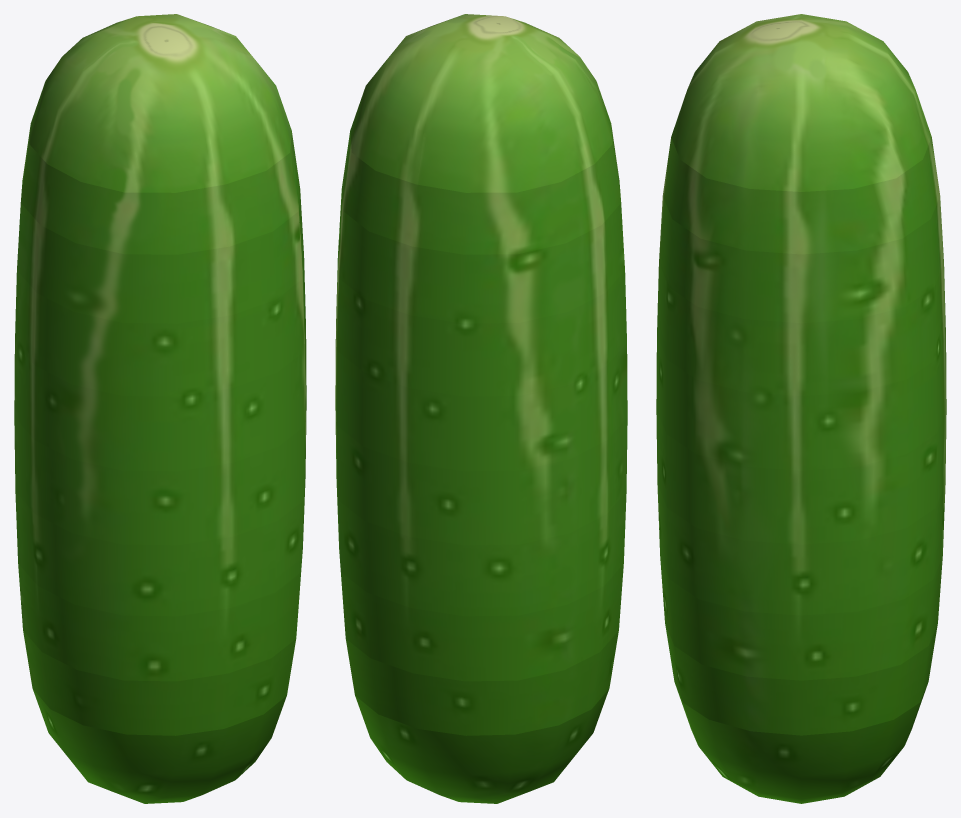
Rendered from Pepino.fbx.
3 views of the same model, side by side, from view 1: azimuth 30°, elevation 25°; view 2: azimuth 150°, elevation 25°; view 3: azimuth 270°, elevation 25° (orthographic).
Parts seen in each view (by area): view 1: Pepino0, Pepino4, Pepino5, Pepino3, Pepino6, Pepino2, Pepino7, Pepino1, Pepino8, Pepino9; view 2: Pepino0, Pepino4, Pepino5, Pepino3, Pepino6, Pepino2, Pepino7, Pepino1, Pepino8, Pepino9; view 3: Pepino0, Pepino4, Pepino5, Pepino3, Pepino6, Pepino2, Pepino7, Pepino1, Pepino8, Pepino9.
Part boxes in pixels (box(x1,y1,x2,y2)): Pepino0: box(29, 14, 291, 192); Pepino4: box(14, 331, 306, 471); Pepino5: box(14, 404, 306, 545); Pepino3: box(15, 258, 305, 396); Pepino6: box(15, 478, 305, 616); Pepino2: box(17, 189, 303, 323); Pepino7: box(18, 563, 300, 681); Pepino1: box(20, 125, 300, 254); Pepino8: box(23, 630, 295, 735); Pepino9: box(33, 689, 286, 803); Pepino0: box(350, 14, 612, 192); Pepino4: box(335, 331, 627, 471); Pepino5: box(335, 404, 627, 545); Pepino3: box(336, 258, 626, 396); Pepino6: box(336, 478, 626, 616); Pepino2: box(338, 189, 624, 323); Pepino7: box(341, 563, 623, 681); Pepino1: box(341, 125, 621, 254); Pepino8: box(346, 630, 618, 735); Pepino9: box(355, 689, 608, 803); Pepino0: box(671, 14, 931, 191); Pepino4: box(656, 336, 946, 470); Pepino5: box(656, 410, 946, 544); Pepino3: box(657, 264, 945, 395); Pepino6: box(657, 484, 945, 615); Pepino2: box(659, 196, 943, 323); Pepino7: box(660, 556, 942, 680); Pepino1: box(662, 137, 940, 254); Pepino8: box(665, 623, 937, 735); Pepino9: box(675, 684, 927, 803).
Bounding box in the file's own units: 182 × 530 × 182.
